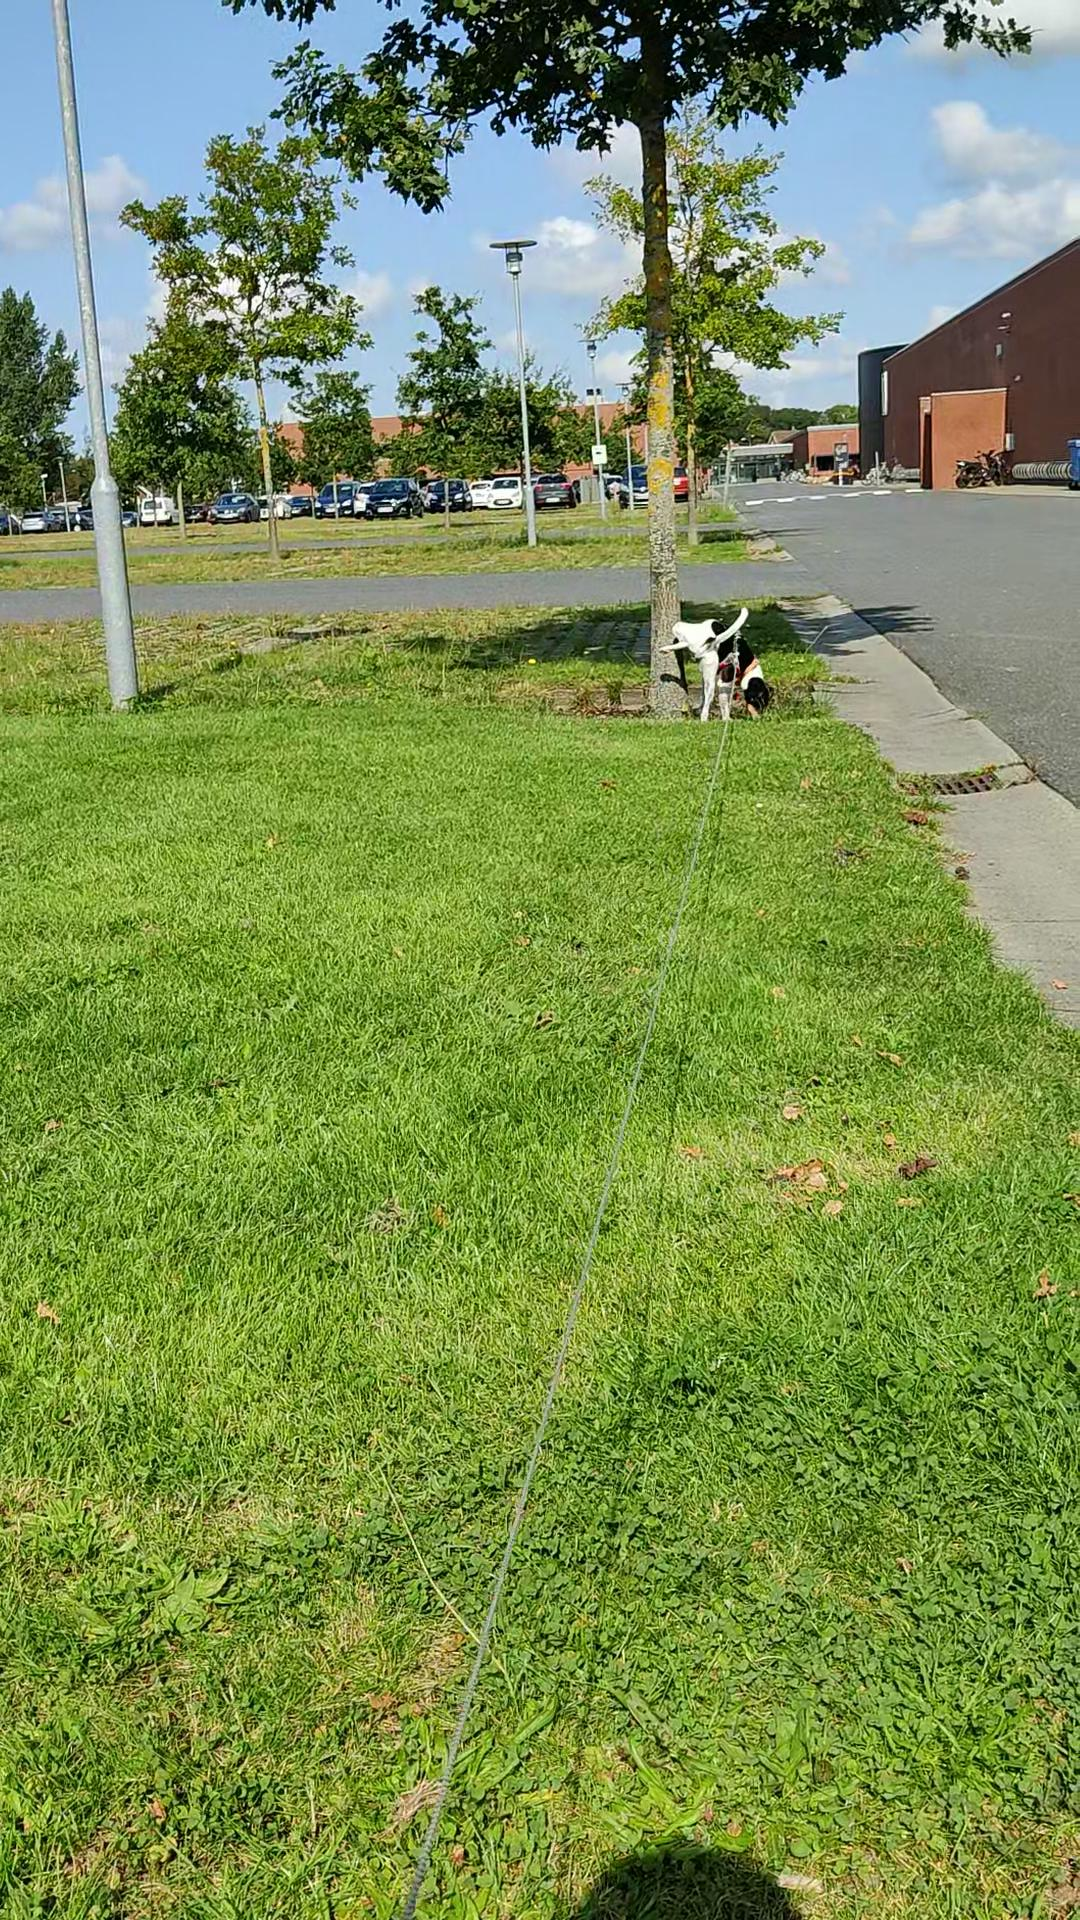Dog: (655, 605, 771, 723)
